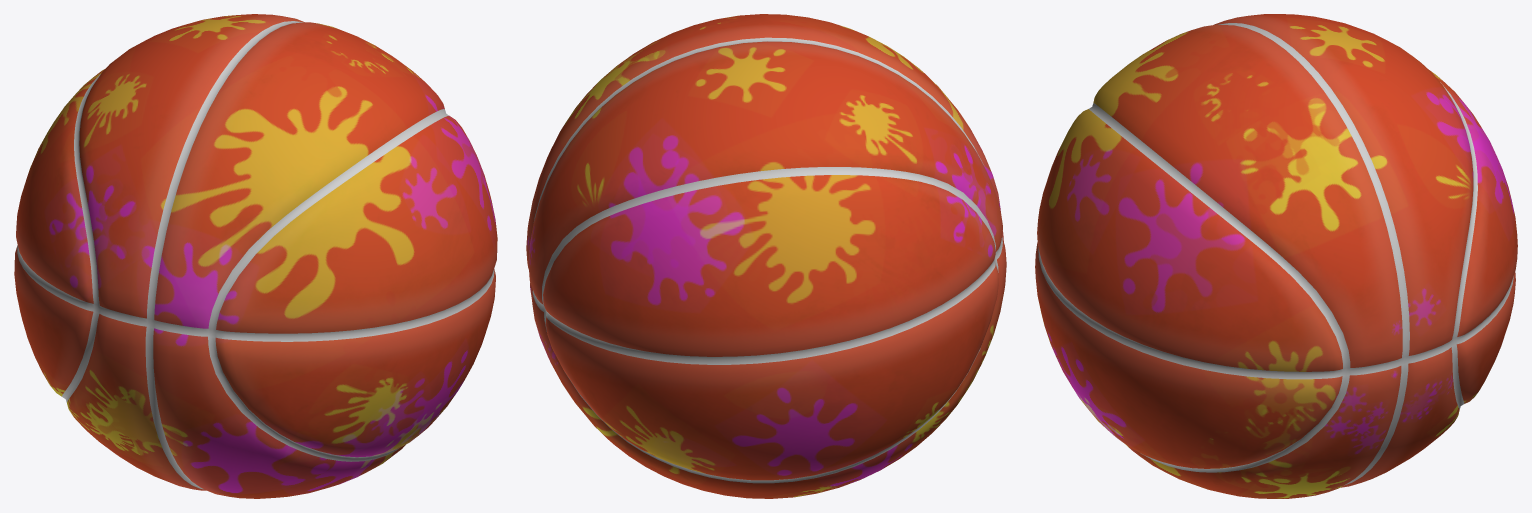
File: basketball_ball.fbx
3 views of the same model, side by side, from view 1: azimuth 30°, elevation 25°; view 2: azimuth 150°, elevation 25°; view 3: azimuth 270°, elevation 25° (orthographic).
Visible parts, largest first — view 1: Basketball; view 2: Basketball; view 3: Basketball.
Boxes of the visible parts, x1,y1,x2,y2 form: Basketball: [14, 14, 497, 498]; Basketball: [526, 14, 1006, 498]; Basketball: [1035, 14, 1517, 498].
Bounding box in the file's own units: 0.24 × 0.24 × 0.24.
